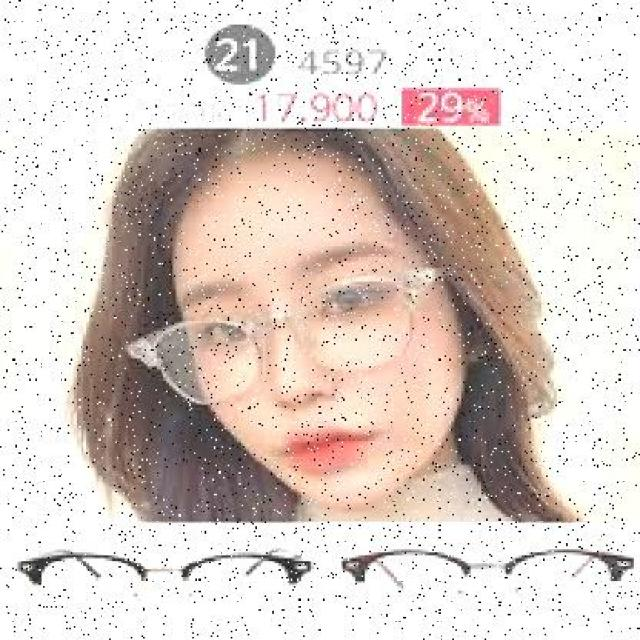glasses: (140, 255, 434, 403)
